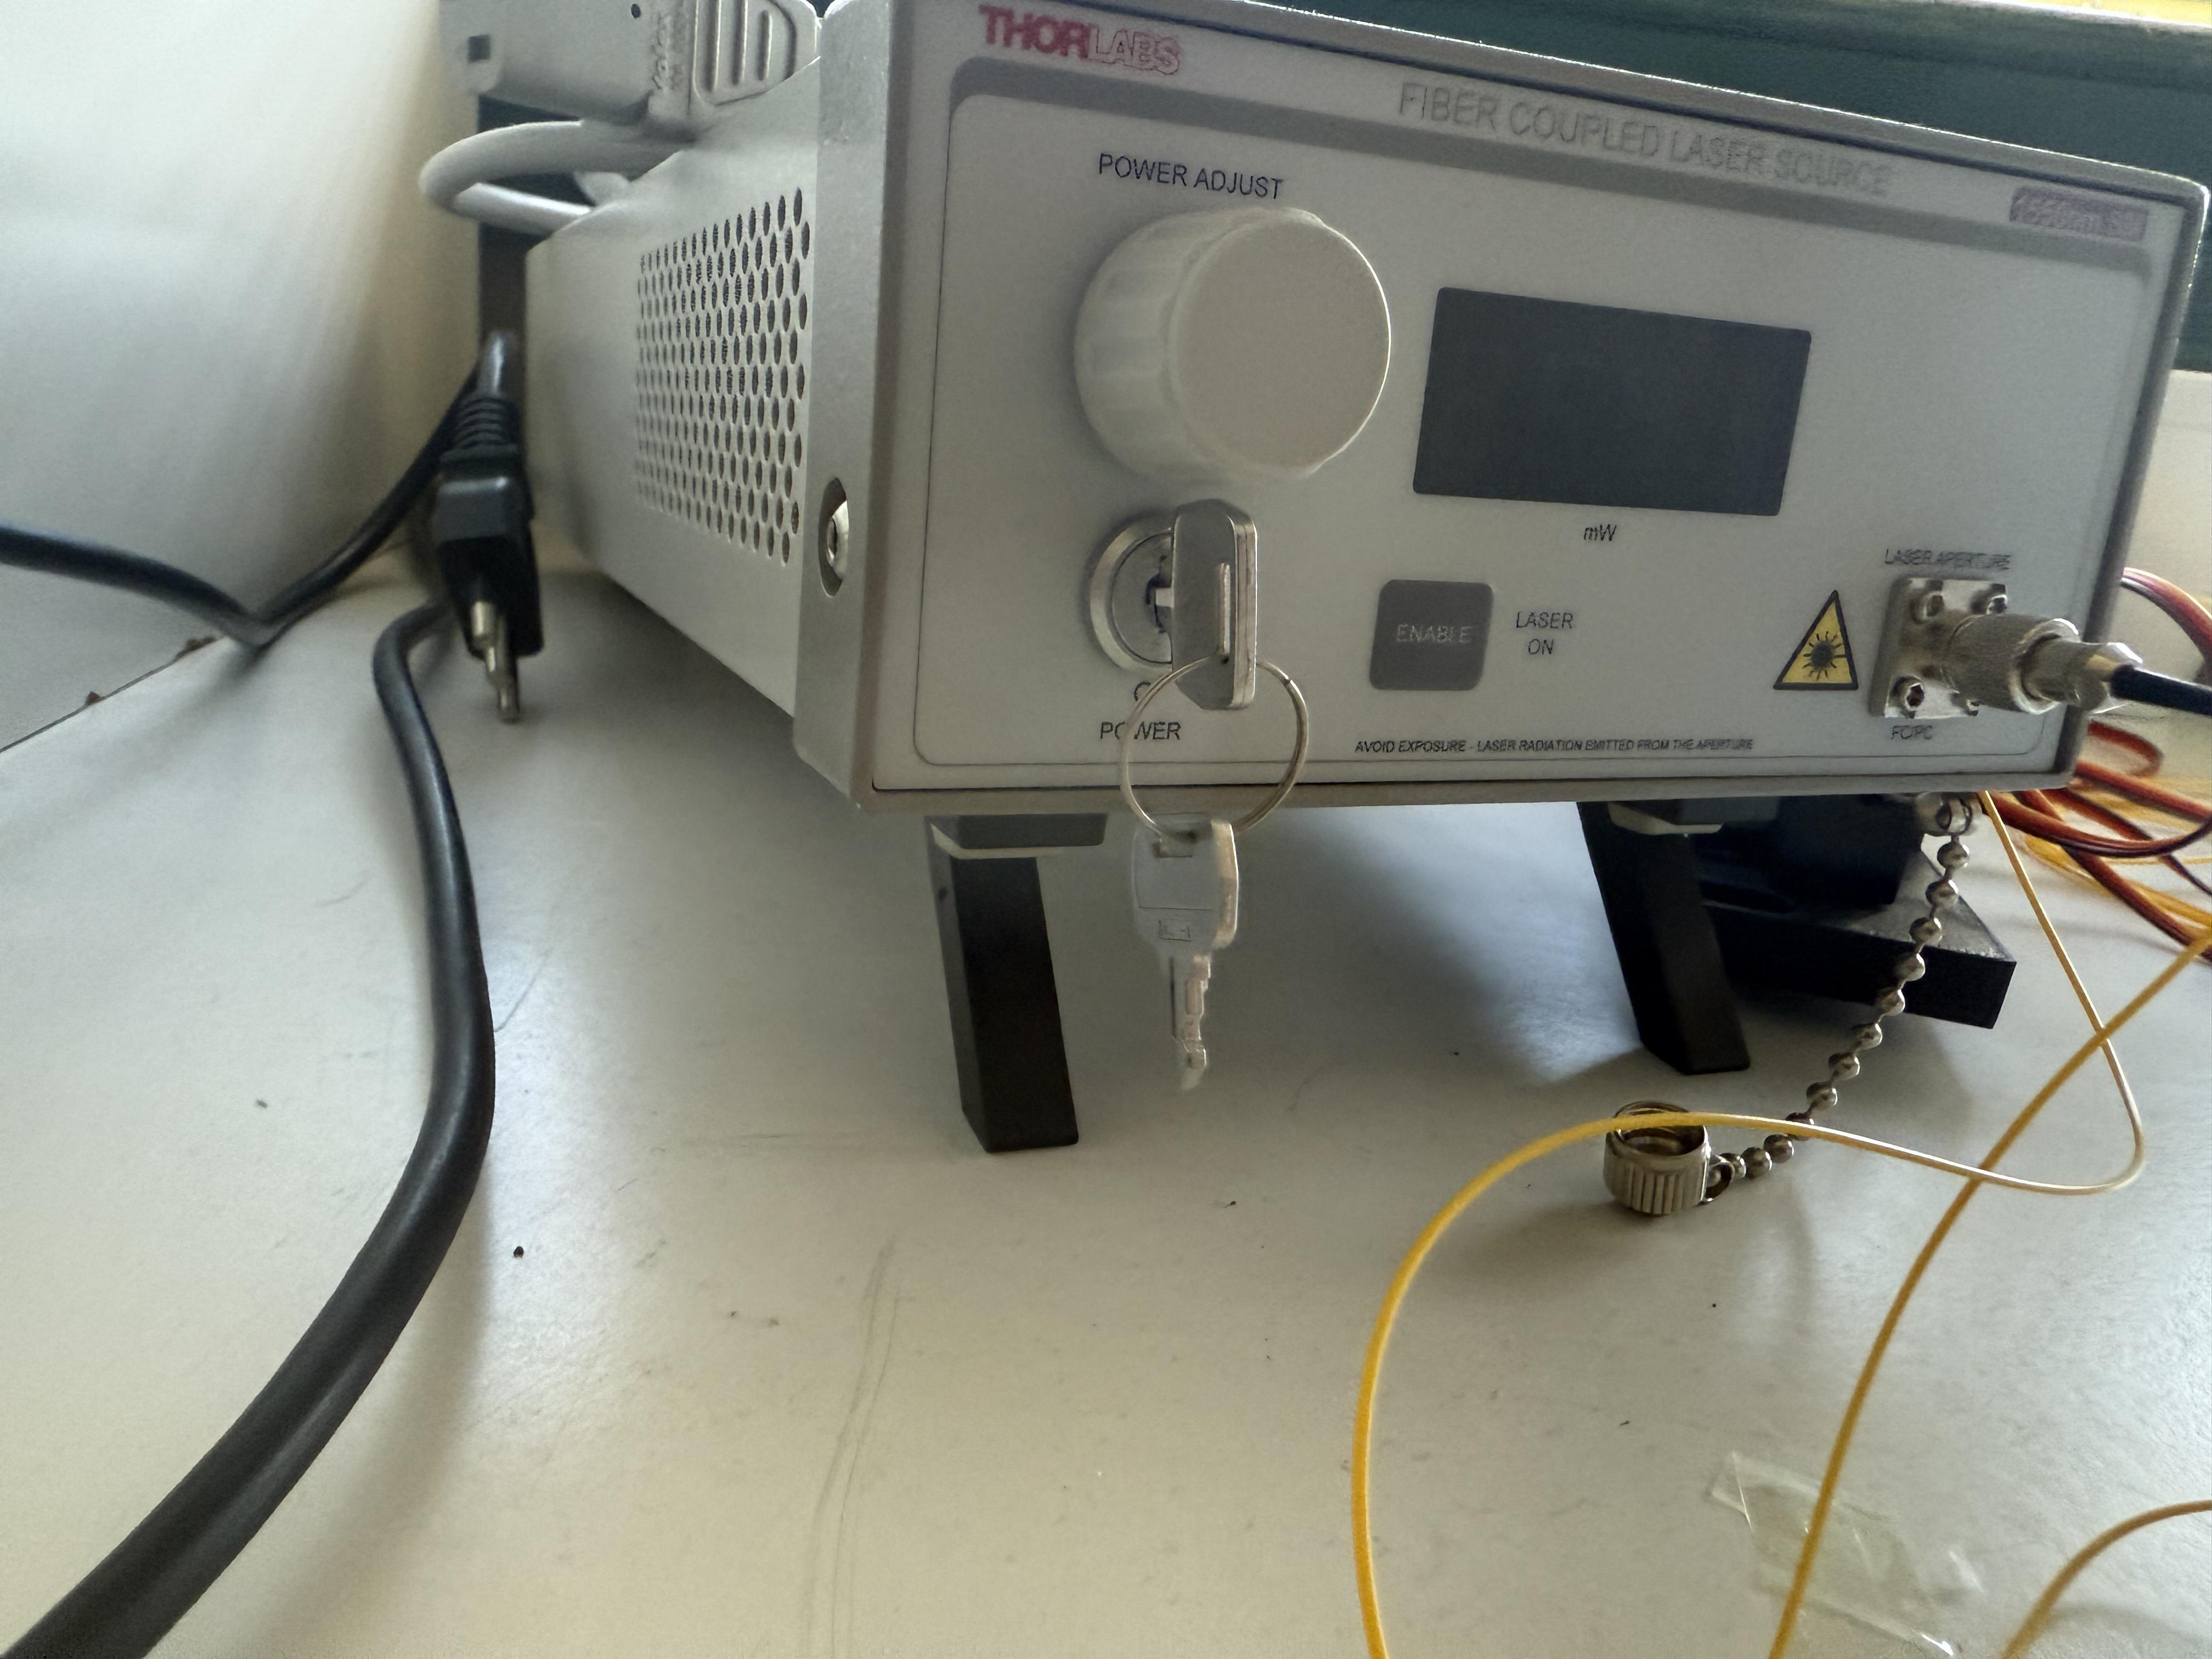laser: (453, 0, 2212, 1171)
